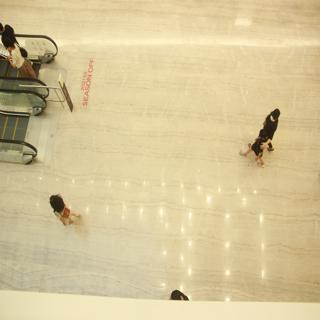person: (247, 101, 284, 167), (2, 36, 48, 87), (42, 188, 89, 231)
